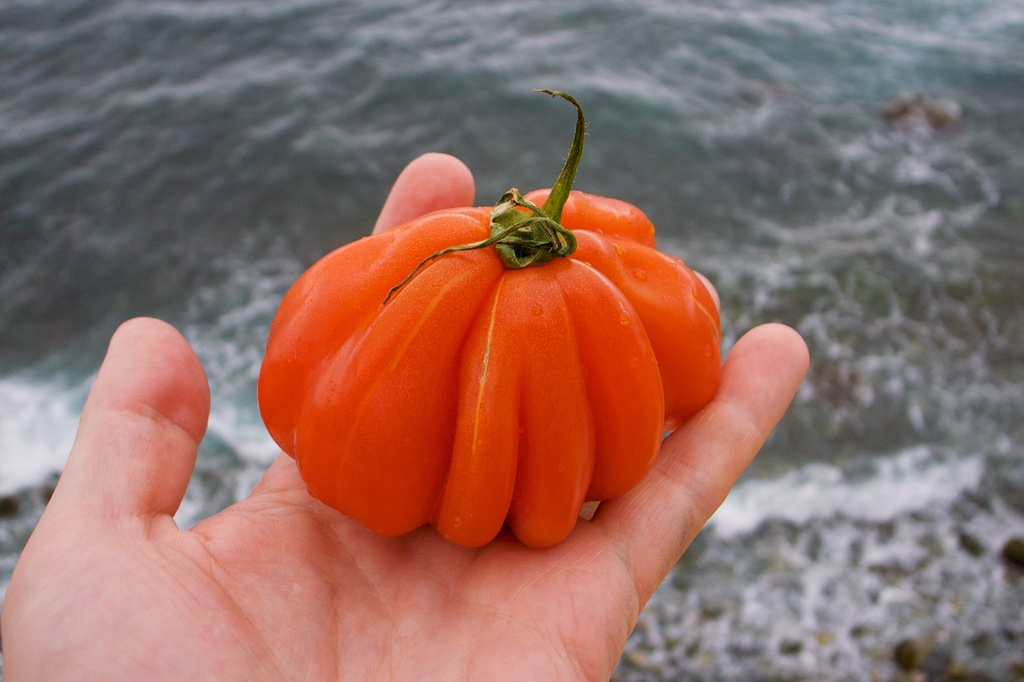Tomato: (293, 179, 659, 552)
